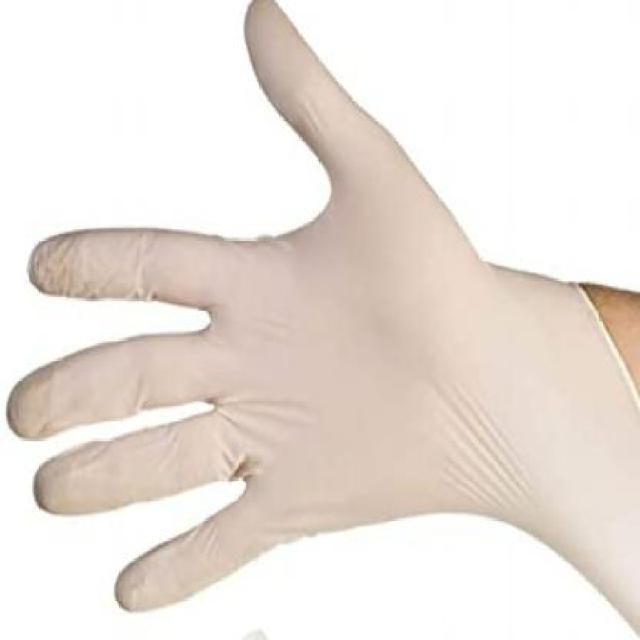gloved_hand: (4, 0, 593, 638)
